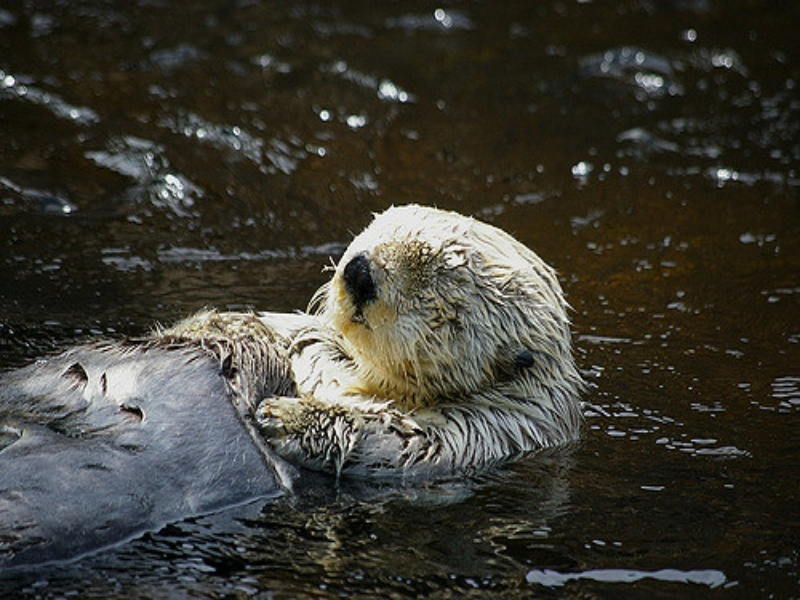minkish: (156, 201, 586, 503)
